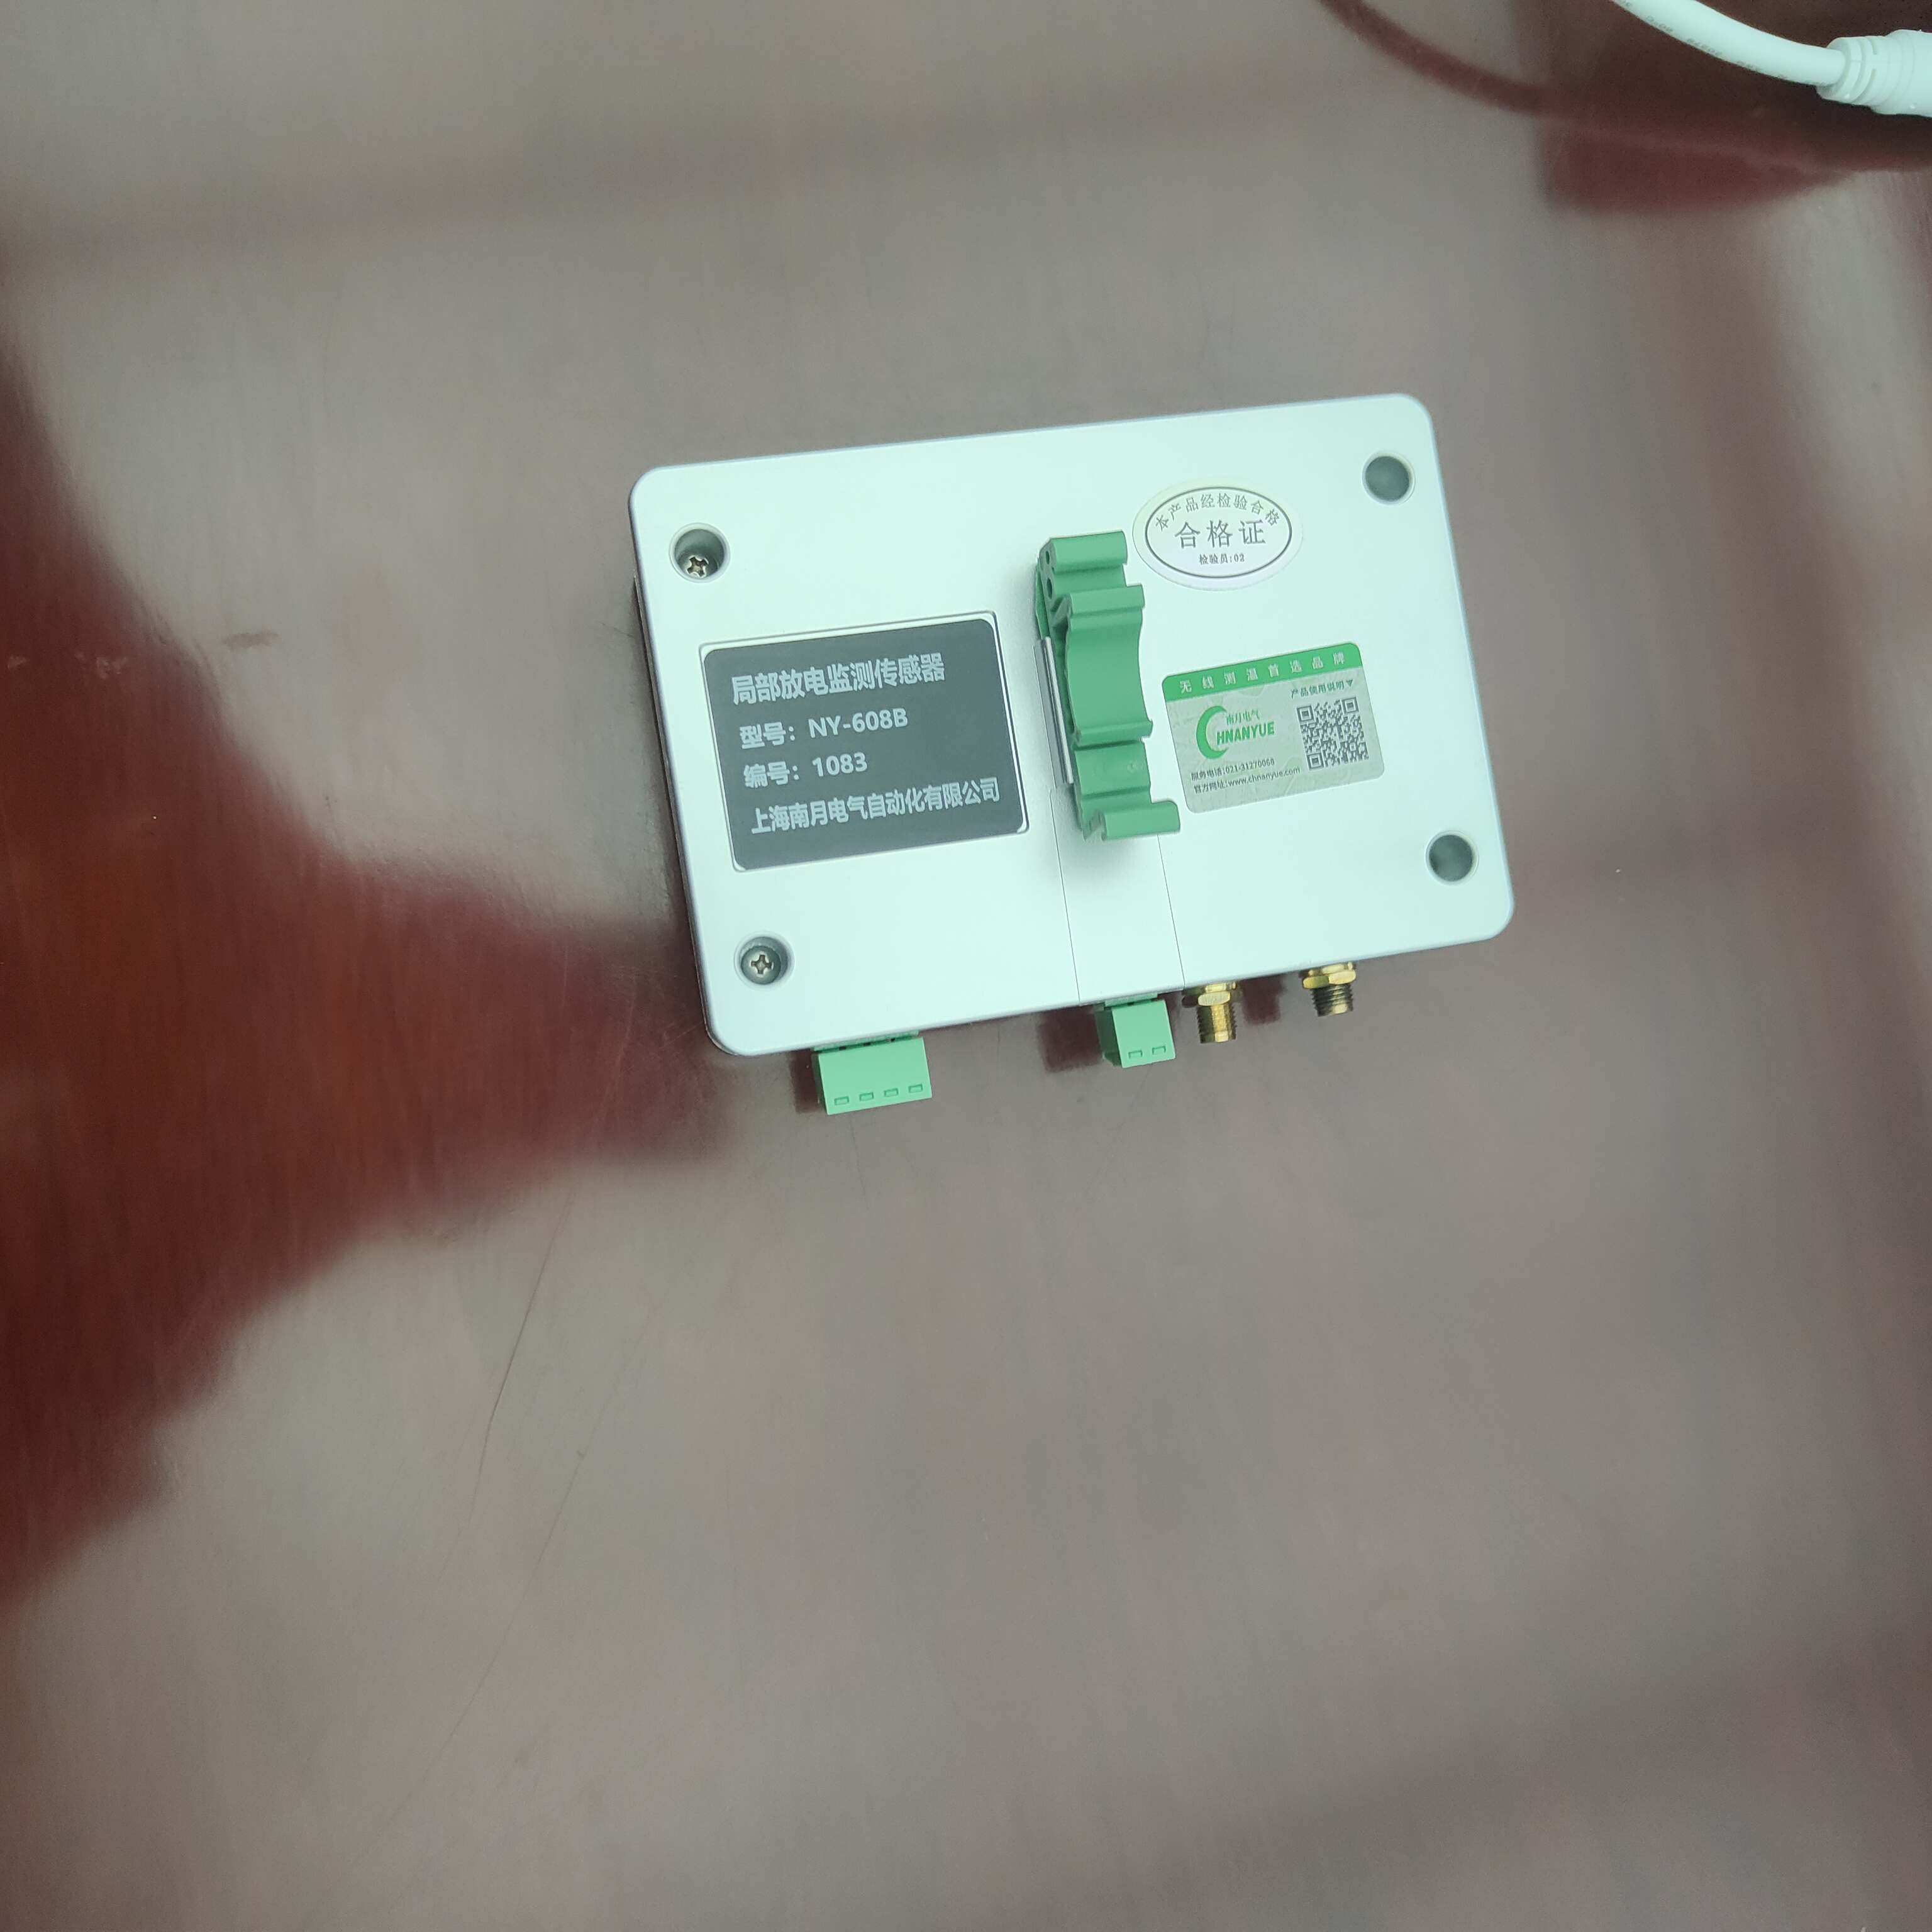jbfdjc: (598, 352, 1548, 1175)
